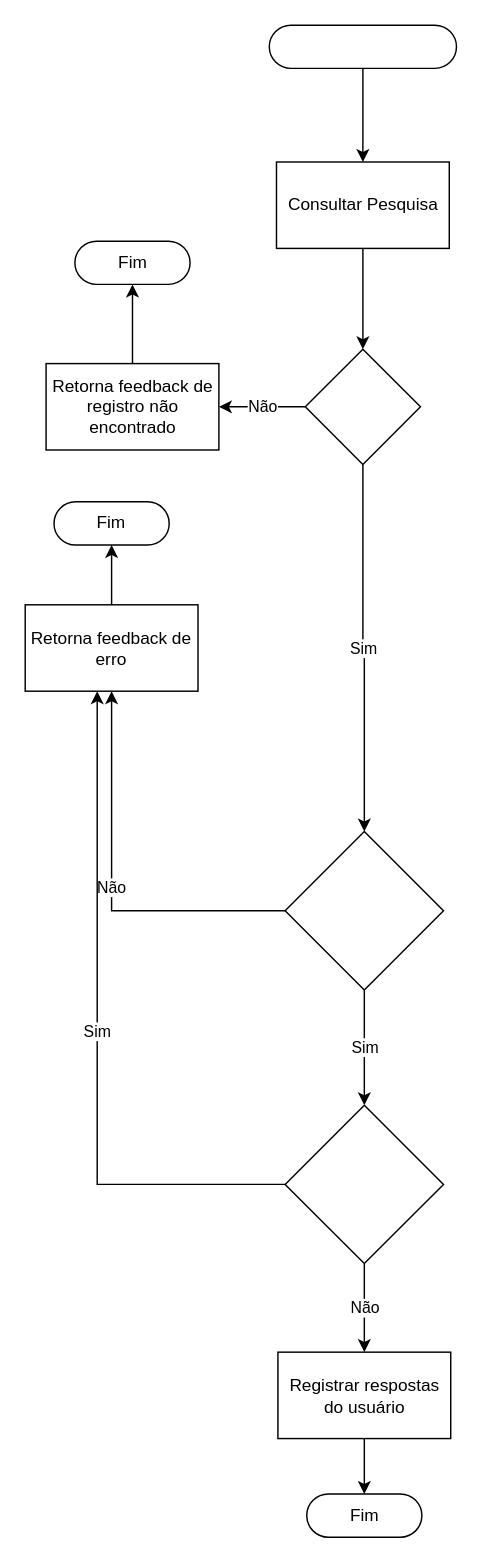
This 482x1562 diagram has some shape labels left out. Here are the shapes that lost their labels. From the top down, the centre of each, then its label:
[362,46]: Inicio Responder pesquisa
[362,406]: Pesquisa Existe?
[364,910]: Status da pesquisa é "Publicada"?
[364,1184]: Usuário já respondeu a pesquisa?
